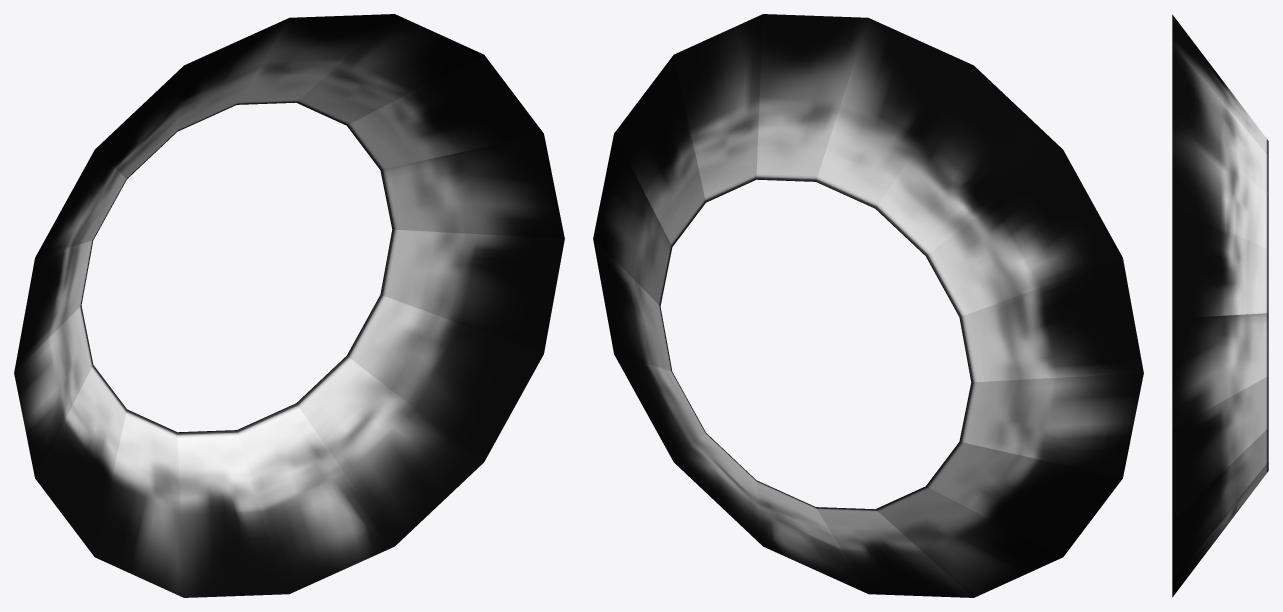
The model's file is 1032_wave.FBX.
3 renders of one model, left to right at view 1: azimuth 30°, elevation 25°; view 2: azimuth 150°, elevation 25°; view 3: azimuth 270°, elevation 25°, orthographic. The views are drawn at different scales.
Parts seen in each view (by area): view 1: Cylinder3_10050; view 2: Cylinder3_10050; view 3: Cylinder3_10050.
Part boxes in pixels (x1,y1,x2,y2): Cylinder3_10050: (14, 14, 564, 597); Cylinder3_10050: (593, 14, 1143, 597); Cylinder3_10050: (1172, 14, 1268, 597).
Bounding box in the file's own units: 312 × 312 × 51.53.
